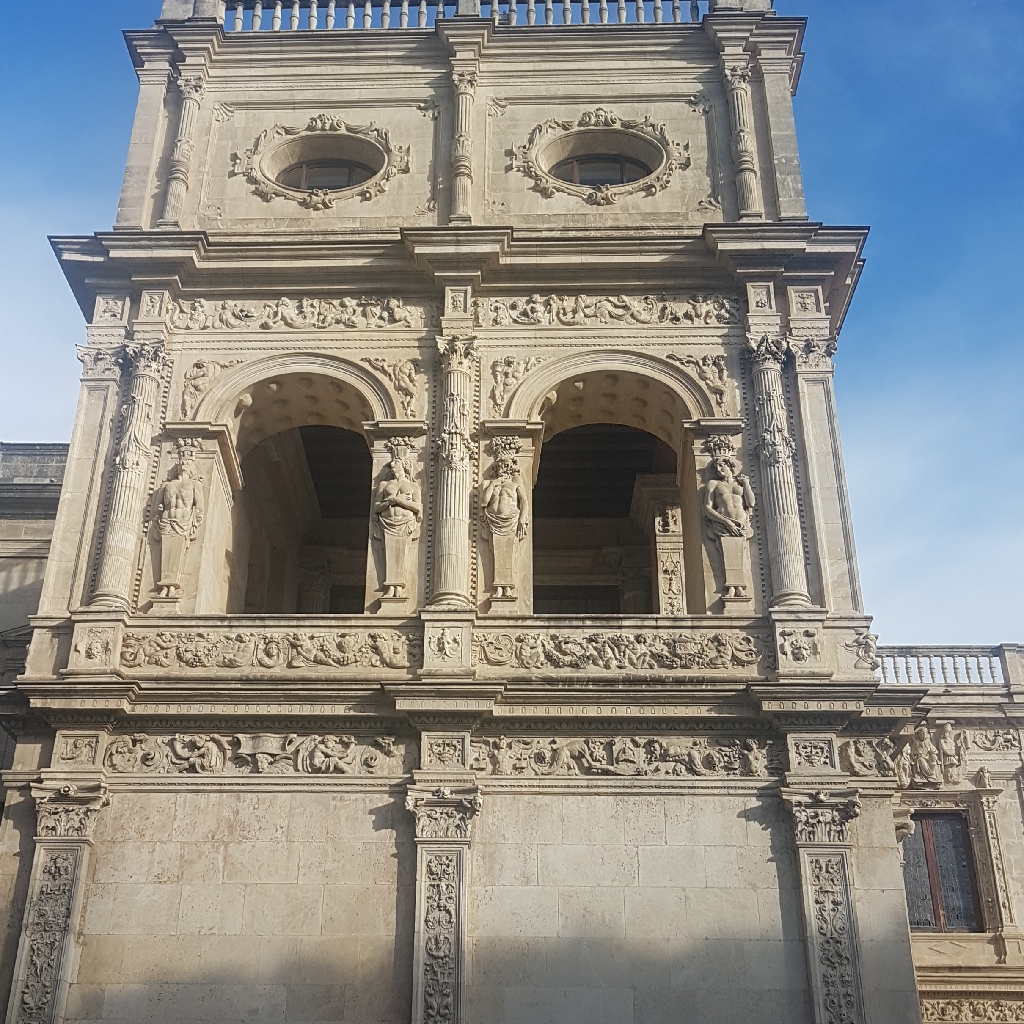arco-medio-punto: (198, 353, 392, 463), (509, 353, 703, 456)
ojo-de-buey: (535, 118, 666, 193), (257, 125, 388, 194)
